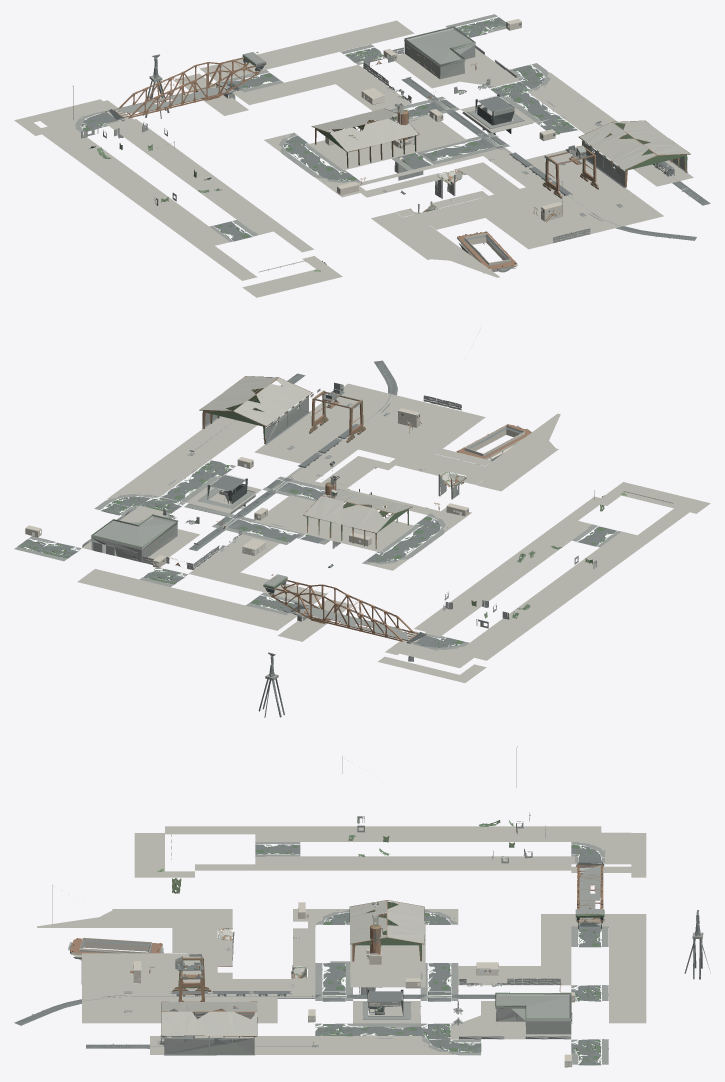
Rendered from harbor_2-map.glb.
3 renders of one model, top to bottom at view 1: azimuth 30°, elevation 25°; view 2: azimuth 150°, elevation 25°; view 3: azimuth 270°, elevation 25°, orthographic. The views are drawn at different scales.
Visible parts, largest first — view 1: rope_docks_a, swing_bridge_LOD0, office_bld_a_ext_LOD0, portacabin_building_300_600_b_LOD0; view 2: rope_docks_a, swing_bridge_LOD0, office_bld_a_ext_LOD0, portacabin_building_300_600_b_LOD0; view 3: rope_docks_a, swing_bridge_LOD0, office_bld_a_ext_LOD0, portacabin_building_300_600_b_LOD0.
Part boxes in pixels (x1,y1,x2,y2): rope_docks_a: [14, 20, 693, 297]; swing_bridge_LOD0: [75, 14, 690, 272]; office_bld_a_ext_LOD0: [81, 17, 710, 271]; portacabin_building_300_600_b_LOD0: [325, 19, 562, 273]; rope_docks_a: [77, 328, 710, 682]; swing_bridge_LOD0: [14, 376, 621, 680]; office_bld_a_ext_LOD0: [18, 360, 616, 717]; portacabin_building_300_600_b_LOD0: [25, 408, 524, 567]; rope_docks_a: [37, 746, 646, 1054]; swing_bridge_LOD0: [68, 812, 703, 1064]; office_bld_a_ext_LOD0: [14, 844, 710, 1065]; portacabin_building_300_600_b_LOD0: [70, 902, 574, 1067].
Size of the model in its own units: 229 by 62.21 by 278.
